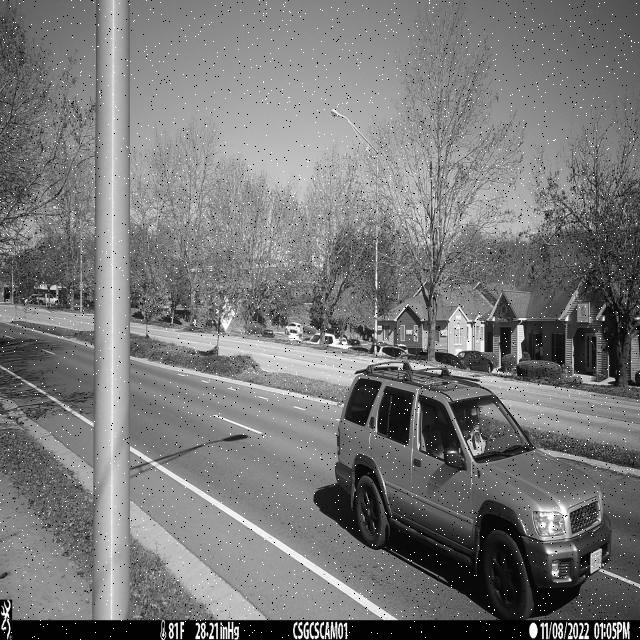SUV: (335, 362, 611, 620)
